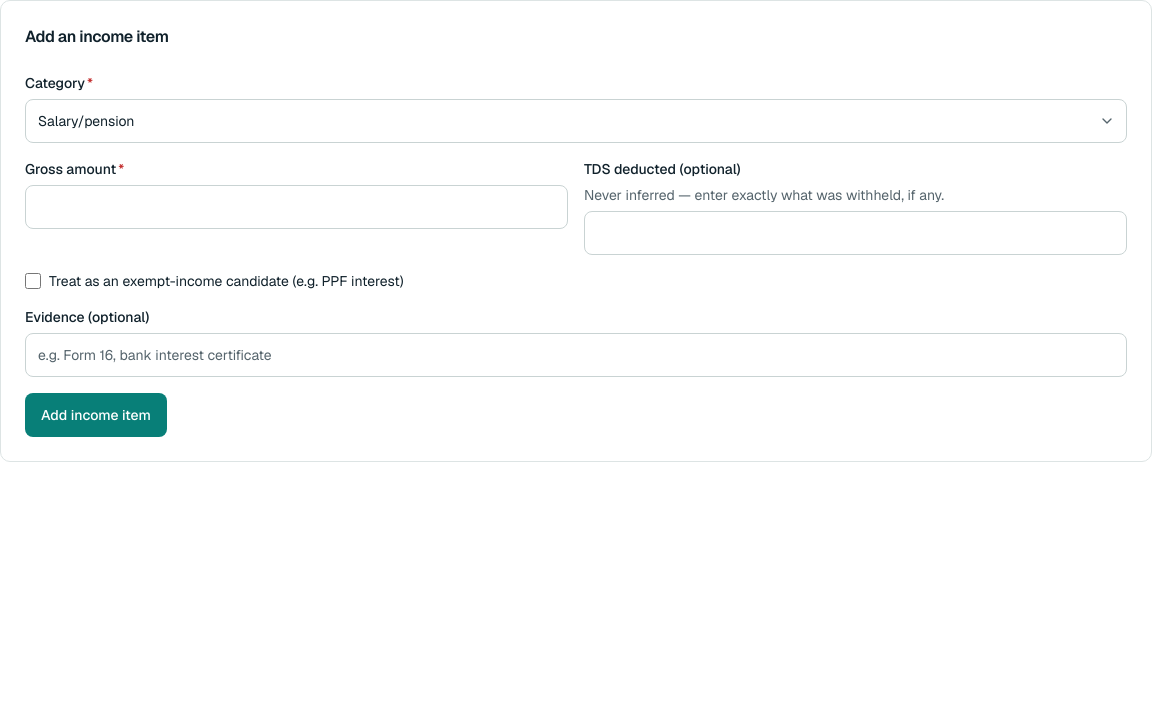
Test: TaxIncomeAdjustmentForm — validation › shows a validation error tied to the offending field
The image size is (1152, 720).
Click the button "Add income item". click: coordinates (96, 415)
box: [25,393,167,437]
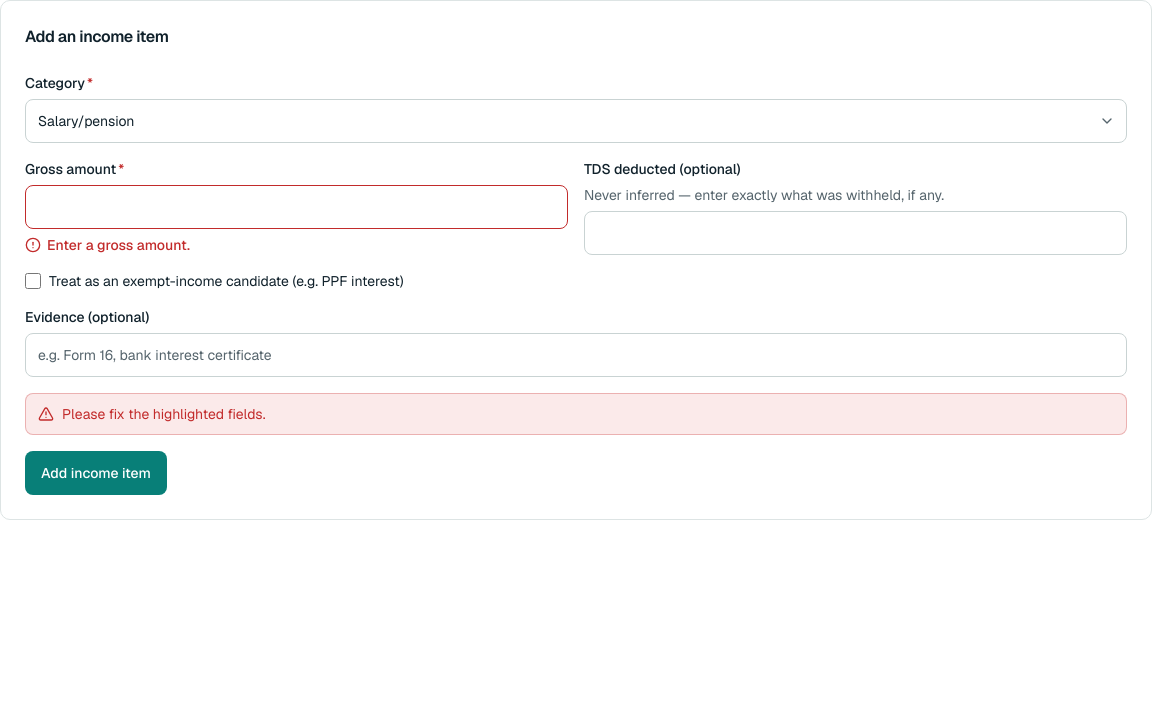
Check: the text "Enter a gross amount." is shown, box [25,236,190,254]
